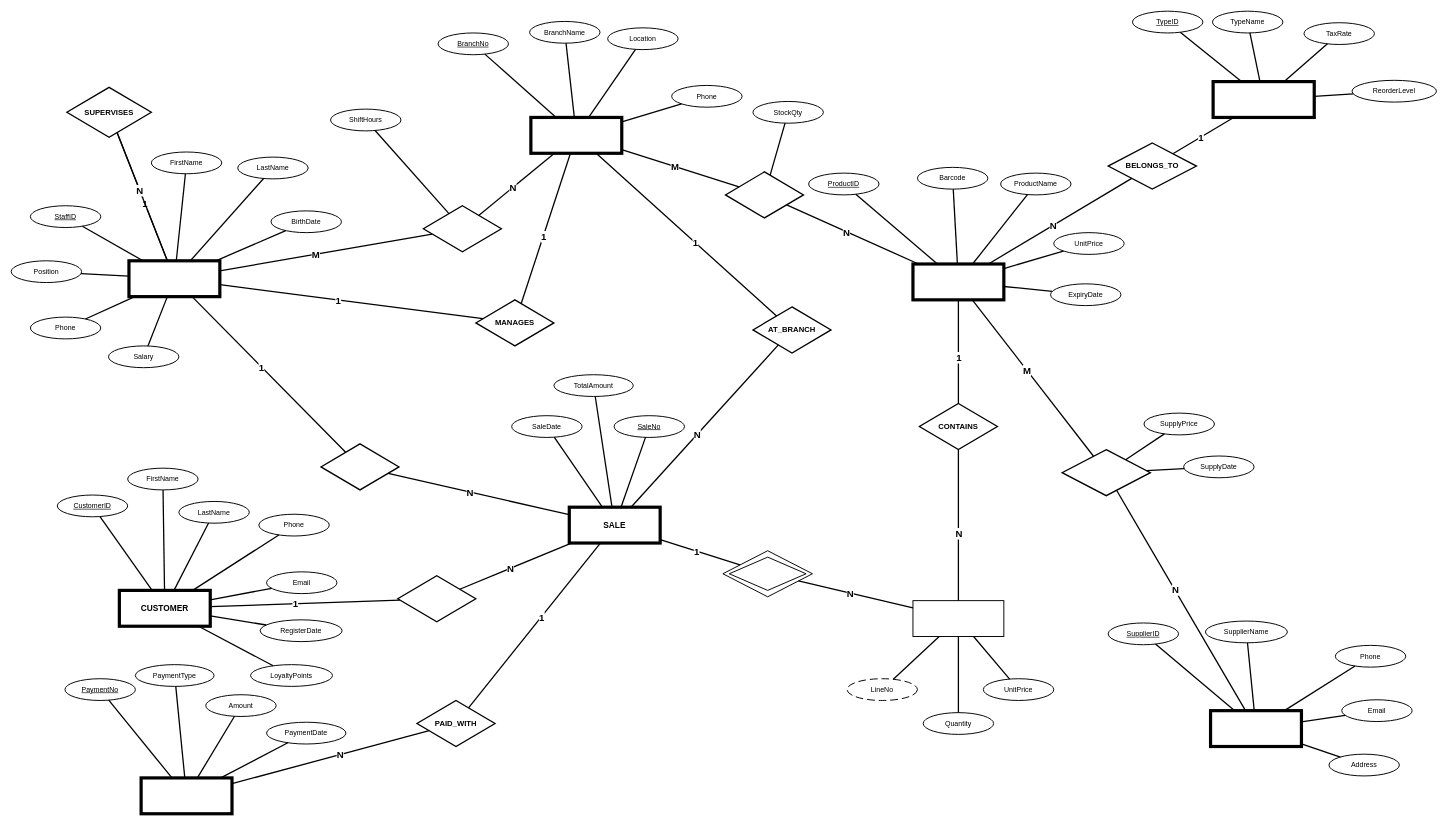
Some shapes in this 1448 by 827 pixel diagram are drawn without their labels. The shapes that lost their labels are listed below. From the top down, each one's centre as x and y in pixels, then its label:
point 1263,99: PRODUCT_TYPE
point 576,135: BRANCH
point 764,194: IN_STOCK
point 462,228: WORKS_IN
point 174,278: STAFF
point 958,281: PRODUCT
point 359,466: PROCESSES
point 1106,472: SUPPLIED_BY
point 767,573: CONSISTS_OF
point 436,598: MAKES
point 958,618: SALE_LINE
point 1256,728: SUPPLIER
point 186,795: PAYMENT
